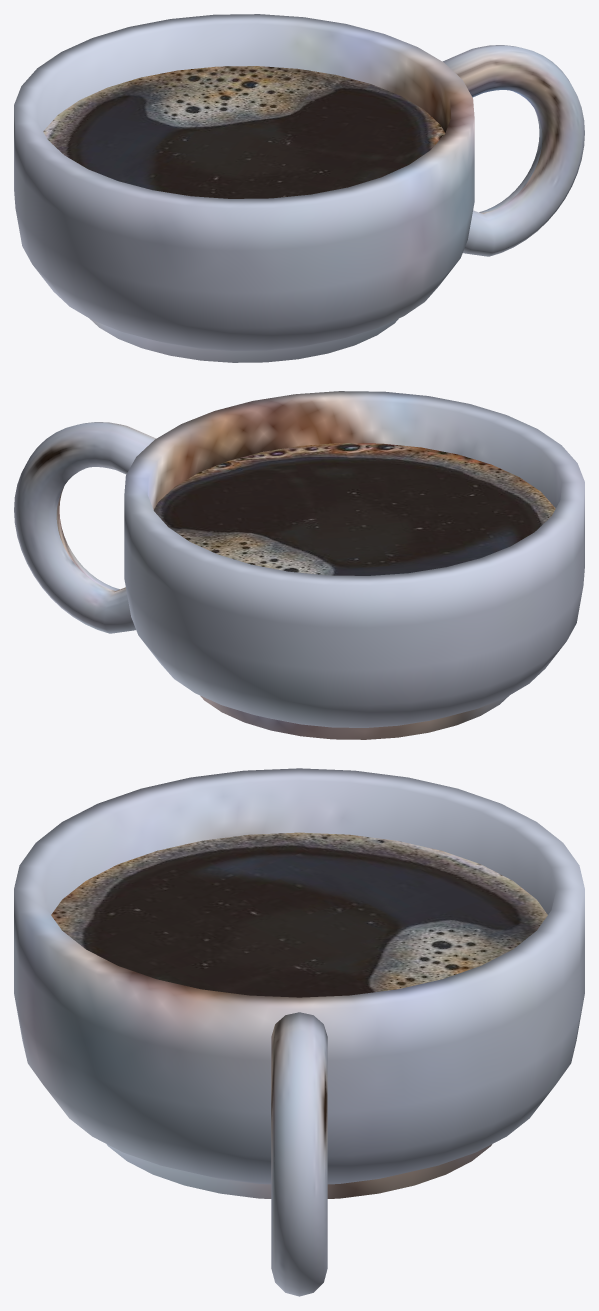
File: Mug thing.fbx
3 renders of one model, top to bottom at view 1: azimuth 30°, elevation 25°; view 2: azimuth 150°, elevation 25°; view 3: azimuth 270°, elevation 25°, orthographic. The views are drawn at different scales.
Visible parts, largest first — view 1: Cylinder; view 2: Cylinder; view 3: Cylinder.
Boxes of the visible parts, left/top/right/bottom form: Cylinder: left=14, top=14, right=584, bottom=362; Cylinder: left=14, top=391, right=584, bottom=739; Cylinder: left=14, top=768, right=584, bottom=1296.
Bounding box in the file's own units: 269 × 98.7 × 200.
